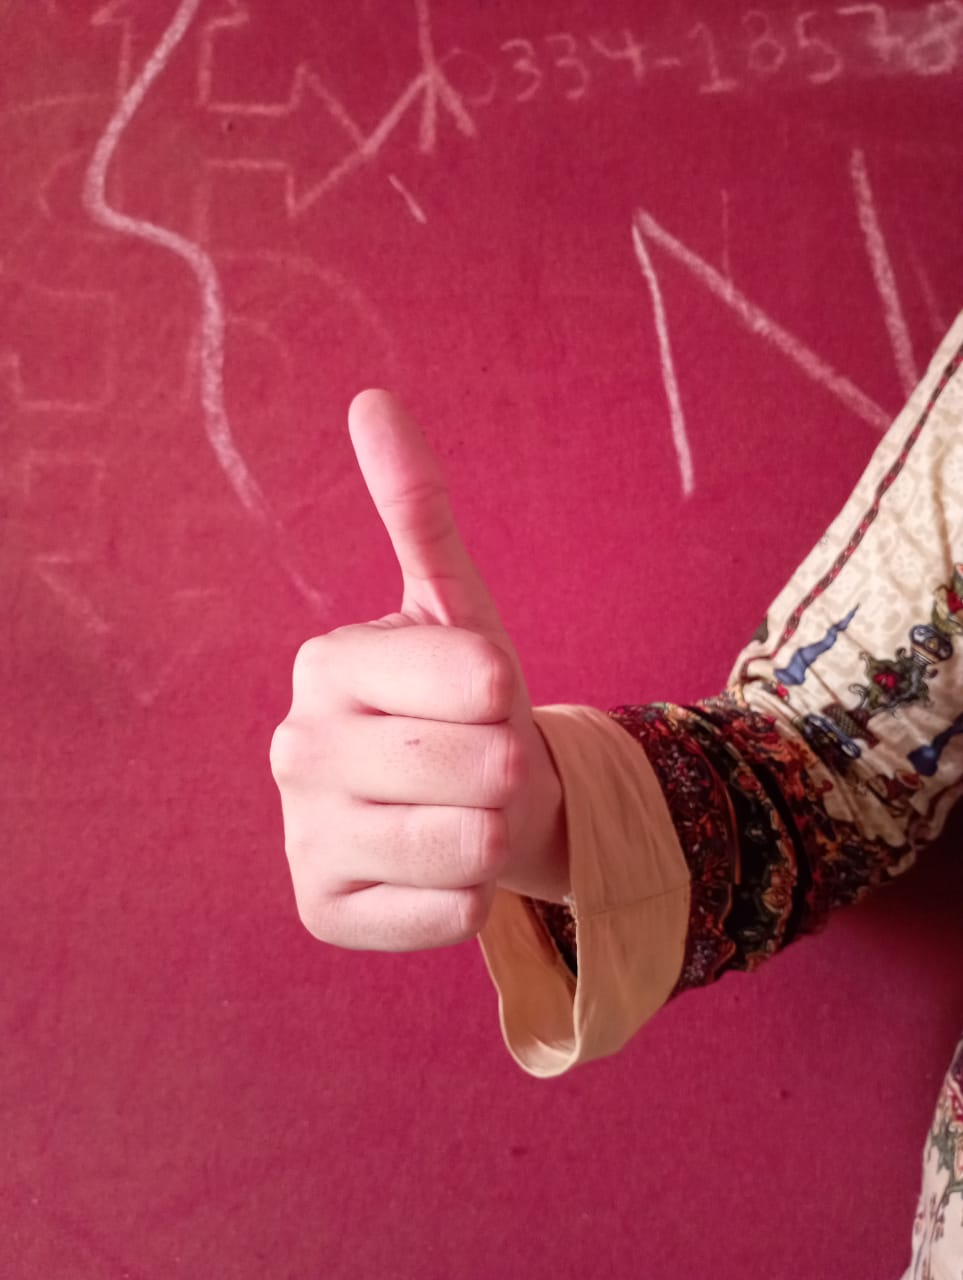I Like It: (254, 382, 534, 963)
